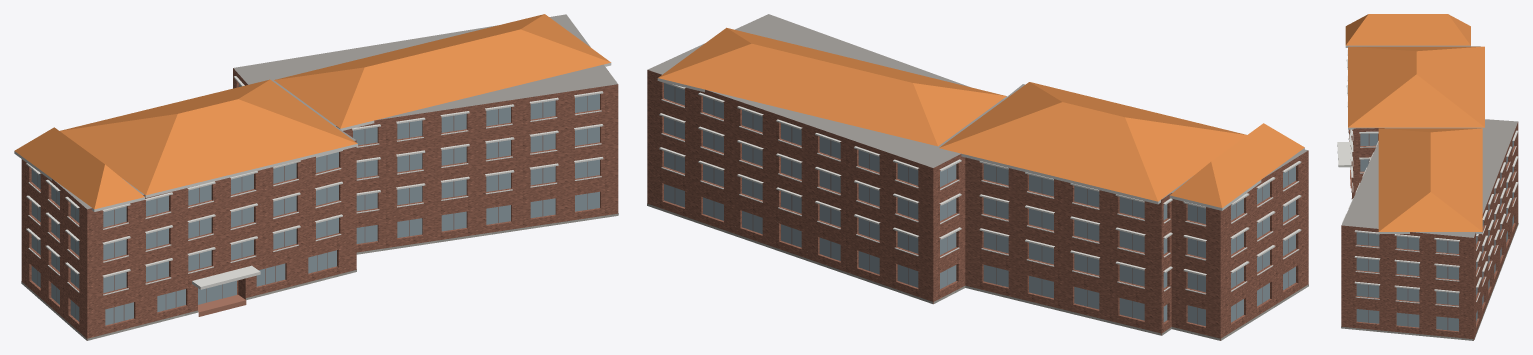
3 views of the same model, side by side, from view 1: azimuth 30°, elevation 25°; view 2: azimuth 150°, elevation 25°; view 3: azimuth 270°, elevation 25° (orthographic). The views are drawn at different scales.
Parts seen in each view (by area): view 1: osm136242421__wall, osm136242421__roofAccent, osm136242421__glass, osm136242421__trim, osm136242421__roof, osm136242421__base, osm136242421__frame, osm136242421__canopy, osm136242421__entranceThreshold_0; view 2: osm136242421__wall, osm136242421__roofAccent, osm136242421__glass, osm136242421__trim, osm136242421__roof, osm136242421__base, osm136242421__frame; view 3: osm136242421__roofAccent, osm136242421__wall, osm136242421__glass, osm136242421__roof, osm136242421__trim, osm136242421__base, osm136242421__frame, osm136242421__canopy.
Boxes of the visible parts, left/top/right/bottom form: osm136242421__wall: left=21, top=68, right=618, bottom=340; osm136242421__roofAccent: left=14, top=14, right=610, bottom=209; osm136242421__glass: left=31, top=84, right=599, bottom=325; osm136242421__trim: left=14, top=63, right=611, bottom=295; osm136242421__roof: left=53, top=14, right=617, bottom=209; osm136242421__base: left=21, top=213, right=618, bottom=340; osm136242421__frame: left=37, top=96, right=587, bottom=323; osm136242421__canopy: left=192, top=265, right=260, bottom=289; osm136242421__entranceThreshold_0: left=198, top=294, right=246, bottom=316; osm136242421__wall: left=647, top=70, right=1308, bottom=340; osm136242421__roofAccent: left=658, top=27, right=1304, bottom=207; osm136242421__glass: left=664, top=83, right=1295, bottom=326; osm136242421__trim: left=657, top=78, right=1304, bottom=294; osm136242421__roof: left=648, top=14, right=1307, bottom=340; osm136242421__base: left=647, top=203, right=1308, bottom=340; osm136242421__frame: left=674, top=87, right=1288, bottom=324; osm136242421__roofAccent: left=1345, top=14, right=1484, bottom=231; osm136242421__wall: left=1341, top=122, right=1518, bottom=340; osm136242421__glass: left=1356, top=133, right=1513, bottom=331; osm136242421__roof: left=1342, top=45, right=1517, bottom=237; osm136242421__trim: left=1342, top=45, right=1518, bottom=307; osm136242421__base: left=1341, top=132, right=1518, bottom=340; osm136242421__frame: left=1368, top=133, right=1512, bottom=330; osm136242421__canopy: left=1337, top=142, right=1351, bottom=167.
Bounding box in the file's own units: 53.59 × 15.23 × 19.16.
10 materials, 2 textured.
